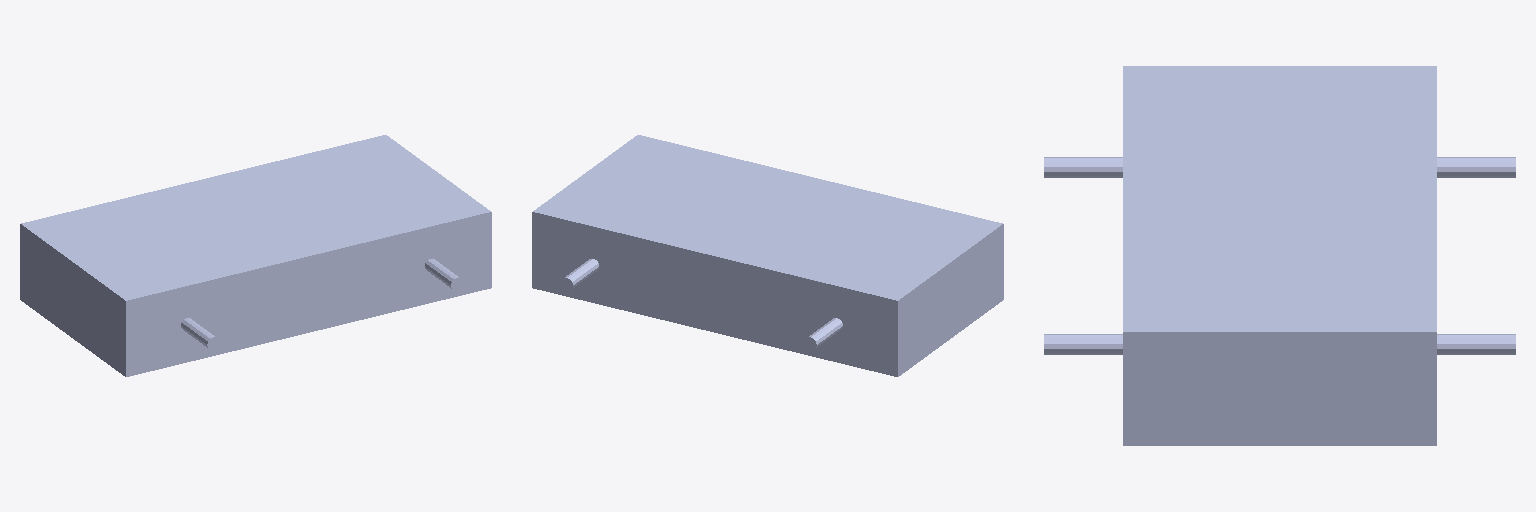
URDF robot description (robot3):
<?xml version="1.0" encoding="utf-8"?>
<!-- This URDF was automatically created by SolidWorks to URDF Exporter! Originally created by [author] ([email redacted]) 
     Commit Version: 1.6.0-4-g7f85cfe  Build Version: 1.6.7995.38578
     For more information, please see http://wiki.ros.org/sw_urdf_exporter -->
<robot
  name="robot3">
  <link
    name="base_link">
    <inertial>
      <origin
        xyz="-5.78537988008606E-17 3.19528191778339E-17 0.06"
        rpy="0 0 0" />
      <mass
        value="21.6942477796077" />
      <inertia
        ixx="0.191279933343014"
        ixy="7.42212620031581E-17"
        ixz="-2.98049293693505E-18"
        iyy="0.677694623573289"
        iyz="3.12965492032587E-35"
        izz="0.817129844527322" />
    </inertial>
    <visual>
      <origin
        xyz="0 0 0"
        rpy="0 0 0" />
      <geometry>
        <mesh
          filename="package://robot3/meshes/base_link.STL" />
      </geometry>
      <material
        name="">
        <color
          rgba="0.792156862745098 0.819607843137255 0.933333333333333 1" />
      </material>
    </visual>
    <collision>
      <origin
        xyz="0 0 0"
        rpy="0 0 0" />
      <geometry>
        <mesh
          filename="package://robot3/meshes/base_link.STL" />
      </geometry>
    </collision>
  </link>
  <link
    name="front_left_wheel">
    <inertial>
      <origin
        xyz="0.2 0.195 0.06"
        rpy="0 0 0" />
      <mass
        value="2.1167" />
      <inertia
        ixx="0.0076561"
        ixy="-8.6697E-16"
        ixz="1.2032E-13"
        iyy="0.014045"
        iyz="-2.7165E-15"
        izz="0.0076561" />
    </inertial>
    <visual>
      <origin
        xyz="0 0 0"
        rpy="0 0 0" />
      <geometry>
        <mesh
          filename="package://robot3/meshes/front_left_wheel.STL" />
      </geometry>
      <material
        name="">
        <color
          rgba="0.89804 0.89804 0.89804 1" />
      </material>
    </visual>
    <collision>
      <origin
        xyz="0 0 0"
        rpy="0 0 0" />
      <geometry>
        <mesh
          filename="package://robot3/meshes/front_left_wheel.STL" />
      </geometry>
    </collision>
  </link>
  <joint
    name="front_left_joint"
    type="revolute">
    <origin
      xyz="0 0 0"
      rpy="0 0 0" />
    <parent
      link="base_link" />
    <child
      link="front_left_wheel" />
    <axis
      xyz="0 1 0" />
    <limit
      lower="0"
      upper="0"
      effort="1000"
      velocity="1000" />
    <dynamics
      damping="1"
      friction="1" />
  </joint>
  <link
    name="front_right_wheel">
    <inertial>
      <origin
        xyz="0.2 -0.195 0.06"
        rpy="0 0 0" />
      <mass
        value="2.1167" />
      <inertia
        ixx="0.0076561"
        ixy="2.4986E-16"
        ixz="-8.0358E-14"
        iyy="0.014045"
        iyz="-2.4605E-15"
        izz="0.0076561" />
    </inertial>
    <visual>
      <origin
        xyz="0 0 0"
        rpy="0 0 0" />
      <geometry>
        <mesh
          filename="package://robot3/meshes/front_right_wheel.STL" />
      </geometry>
      <material
        name="">
        <color
          rgba="0.89804 0.89804 0.89804 1" />
      </material>
    </visual>
    <collision>
      <origin
        xyz="0 0 0"
        rpy="0 0 0" />
      <geometry>
        <mesh
          filename="package://robot3/meshes/front_right_wheel.STL" />
      </geometry>
    </collision>
  </link>
  <joint
    name="front_right_joint"
    type="revolute">
    <origin
      xyz="0 0 0"
      rpy="0 0 0" />
    <parent
      link="base_link" />
    <child
      link="front_right_wheel" />
    <axis
      xyz="0 -1 0" />
    <limit
      lower="0"
      upper="0"
      effort="1000"
      velocity="1000" />
    <dynamics
      damping="1"
      friction="1" />
  </joint>
  <link
    name="rear_left_wheel">
    <inertial>
      <origin
        xyz="-0.2 0.195 0.06"
        rpy="0 0 0" />
      <mass
        value="2.1167" />
      <inertia
        ixx="0.0076561"
        ixy="1.7354E-15"
        ixz="1.2072E-13"
        iyy="0.014045"
        iyz="1.2211E-15"
        izz="0.0076561" />
    </inertial>
    <visual>
      <origin
        xyz="0 0 0"
        rpy="0 0 0" />
      <geometry>
        <mesh
          filename="package://robot3/meshes/rear_left_wheel.STL" />
      </geometry>
      <material
        name="">
        <color
          rgba="0.89804 0.89804 0.89804 1" />
      </material>
    </visual>
    <collision>
      <origin
        xyz="0 0 0"
        rpy="0 0 0" />
      <geometry>
        <mesh
          filename="package://robot3/meshes/rear_left_wheel.STL" />
      </geometry>
    </collision>
  </link>
  <joint
    name="rear_left_joint"
    type="revolute">
    <origin
      xyz="0 0 0"
      rpy="0 0 0" />
    <parent
      link="base_link" />
    <child
      link="rear_left_wheel" />
    <axis
      xyz="0 1 0" />
    <limit
      lower="0"
      upper="0"
      effort="1000"
      velocity="1000" />
    <dynamics
      damping="1"
      friction="1" />
  </joint>
  <link
    name="rear_right_wheel">
    <inertial>
      <origin
        xyz="-0.2 -0.195 0.06"
        rpy="0 0 0" />
      <mass
        value="2.1167" />
      <inertia
        ixx="0.0076561"
        ixy="7.1212E-16"
        ixz="1.9997E-14"
        iyy="0.014045"
        iyz="2.8477E-15"
        izz="0.0076561" />
    </inertial>
    <visual>
      <origin
        xyz="0 0 0"
        rpy="0 0 0" />
      <geometry>
        <mesh
          filename="package://robot3/meshes/rear_right_wheel.STL" />
      </geometry>
      <material
        name="">
        <color
          rgba="0.89804 0.89804 0.89804 1" />
      </material>
    </visual>
    <collision>
      <origin
        xyz="0 0 0"
        rpy="0 0 0" />
      <geometry>
        <mesh
          filename="package://robot3/meshes/rear_right_wheel.STL" />
      </geometry>
    </collision>
  </link>
  <joint
    name="rear_right_joint"
    type="revolute">
    <origin
      xyz="0 0 0"
      rpy="0 0 0" />
    <parent
      link="base_link" />
    <child
      link="rear_right_wheel" />
    <axis
      xyz="0 -1 0" />
    <limit
      lower="0"
      upper="0"
      effort="1000"
      velocity="1000" />
    <dynamics
      damping="1"
      friction="1" />
  </joint>
</robot>

--- What the picture shows (computed from the rendered views, not written in the file) ---
The picture shows the robot from 3 angles, left to right: view 1: azimuth 30°, elevation 25°; view 2: azimuth 150°, elevation 25°; view 3: azimuth 270°, elevation 25°; orthographic projection.
Robot: robot3 — 5 links, 4 joints (4 revolute); root link base_link; default pose: all joints at 0.
Visible links, largest first — view 1: base_link; view 2: base_link; view 3: base_link.
Link boxes in pixels (x1=…): base_link: x1=20, y1=135, x2=491, y2=376; base_link: x1=532, y1=135, x2=1003, y2=376; base_link: x1=1044, y1=66, x2=1515, y2=445.
Bounding box of the posed robot: 0.6 × 0.45 × 0.12 m (x, y, z).
1 mesh visuals loaded from 5 distinct referenced files (1 binary STL); not drawn: 4 (reference not matched to a file when rendering).